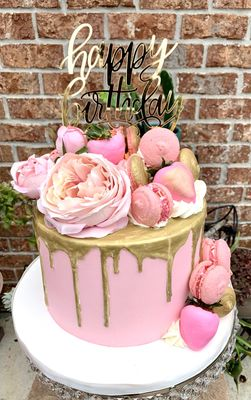sushi: (22, 114, 224, 351)
